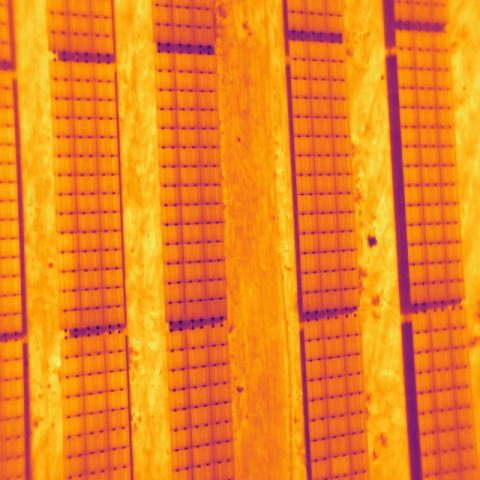fault: (331, 455, 350, 477)
